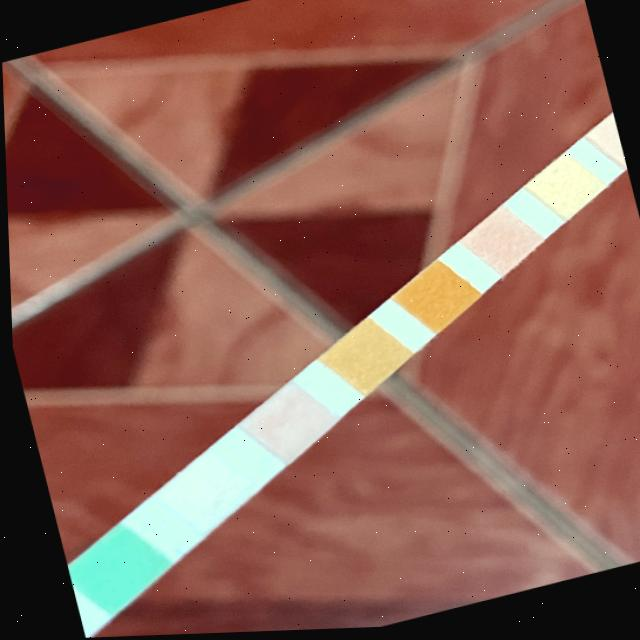Bilirubin: (165, 464, 239, 519)
Blood: (403, 273, 462, 325)
Glucose: (75, 537, 149, 597)
Ketone: (250, 396, 318, 452)
Protein: (535, 165, 589, 213)
SpGravity: (331, 331, 393, 385)
Urobilinogen: (595, 122, 621, 161)
pH: (472, 218, 524, 268)
